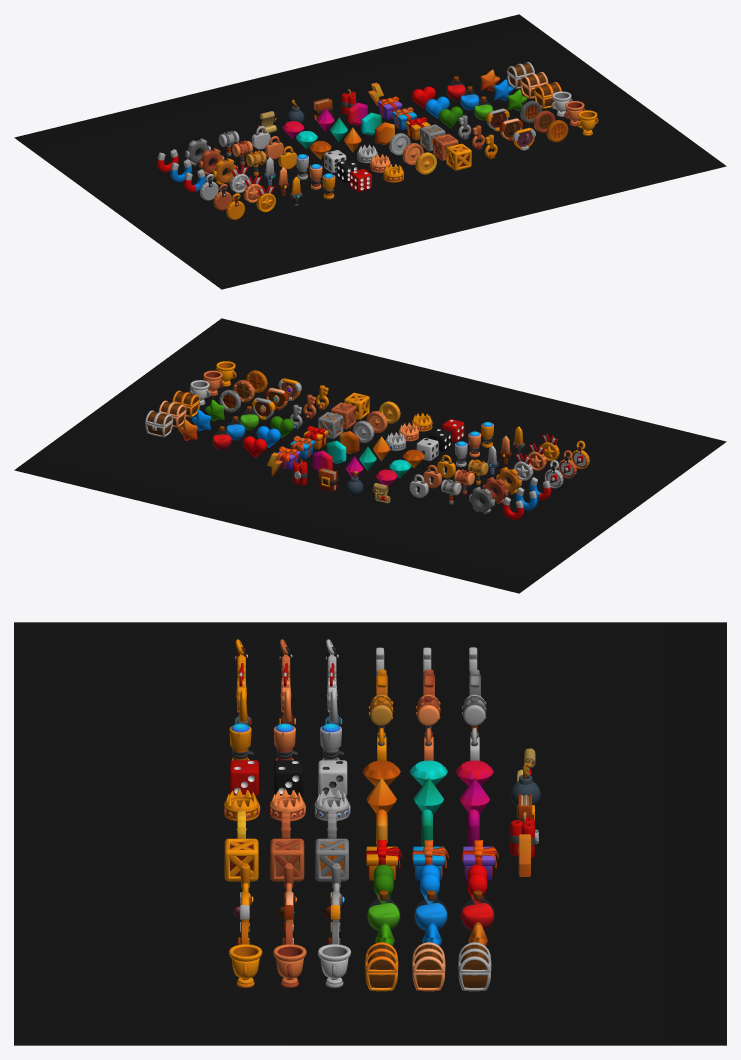
Rendered from Toony_Items_V1_0.fbx.
3 views of the same model, one above another, from view 1: azimuth 30°, elevation 25°; view 2: azimuth 150°, elevation 25°; view 3: azimuth 270°, elevation 25° (orthographic). The views are drawn at different scales.
Visible parts, largest first — view 1: Backgorund_V1_0, Box_V3_0, Trasure_Chest_V3_0, Trasure_Chest_V2_0, Trasure_Chest_V1_0; view 2: Backgorund_V1_0, Trasure_Chest_V1_0, Box_V1_0, Gear_V1_0, Trasure_Chest_V3_0, Trasure_Chest_V2_0; view 3: Backgorund_V1_0, Trasure_Chest_V1_0, Trasure_Chest_V3_0, Trasure_Chest_V2_0, Box_V2_0, Box_V3_0, Box_V1_0, Trophy_V2_0, Trophy_V1_0, Trophy_V3_0, Dice_V2_0, Dice_V1_0 (+21 smaller).
Boxes of the visible parts, x1,y1,x2,y2 form: Backgorund_V1_0: (14,14,726,289); Box_V3_0: (446,143,471,170); Trasure_Chest_V3_0: (534,82,561,108); Trasure_Chest_V2_0: (520,72,548,98); Trasure_Chest_V1_0: (507,62,534,88); Backgorund_V1_0: (14,318,726,593); Trasure_Chest_V1_0: (145,410,173,437); Box_V1_0: (318,412,343,438); Gear_V1_0: (469,486,494,513); Trasure_Chest_V3_0: (172,390,200,417); Trasure_Chest_V2_0: (158,400,186,427); Backgorund_V1_0: (14,622,726,1045); Trasure_Chest_V1_0: (458,942,491,991); Trasure_Chest_V3_0: (365,942,398,991); Trasure_Chest_V2_0: (412,942,445,991); Box_V2_0: (270,838,304,881); Box_V3_0: (224,838,258,881); Box_V1_0: (315,838,348,881); Trophy_V2_0: (273,944,306,987); Trophy_V1_0: (318,944,351,987); Trophy_V3_0: (229,944,262,988); Dice_V2_0: (274,760,303,796); Dice_V1_0: (318,760,347,795).
Bounding box in the file's own units: 11.31 × 0.6296 × 8.05.
